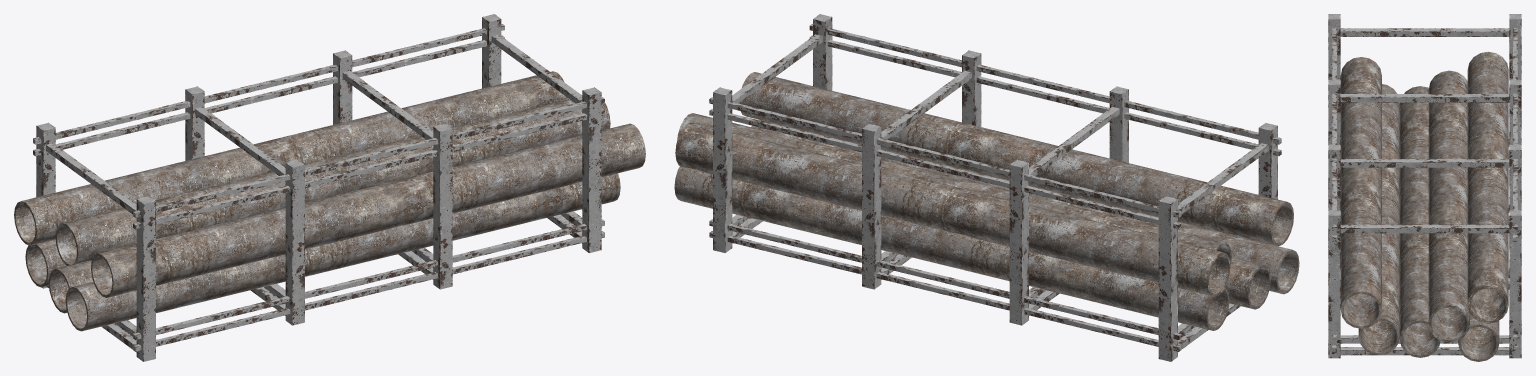
Rendered from Con_storagePipe.fbx.
The picture shows the model from 3 angles, left to right: view 1: azimuth 30°, elevation 25°; view 2: azimuth 150°, elevation 25°; view 3: azimuth 270°, elevation 25°; orthographic projection. The views are drawn at different scales.
Visible parts, largest first — view 1: SM_StoragePipe03_2; view 2: SM_StoragePipe03_2; view 3: SM_StoragePipe03_2.
Part boxes in pixels (left/top/right/bottom): SM_StoragePipe03_2: left=14, top=14, right=645, bottom=361; SM_StoragePipe03_2: left=674, top=14, right=1299, bottom=361; SM_StoragePipe03_2: left=1328, top=14, right=1521, bottom=361.
Size of the model in its own units: 6.96 by 1.87 by 2.3.
2 materials, 2 textured.
